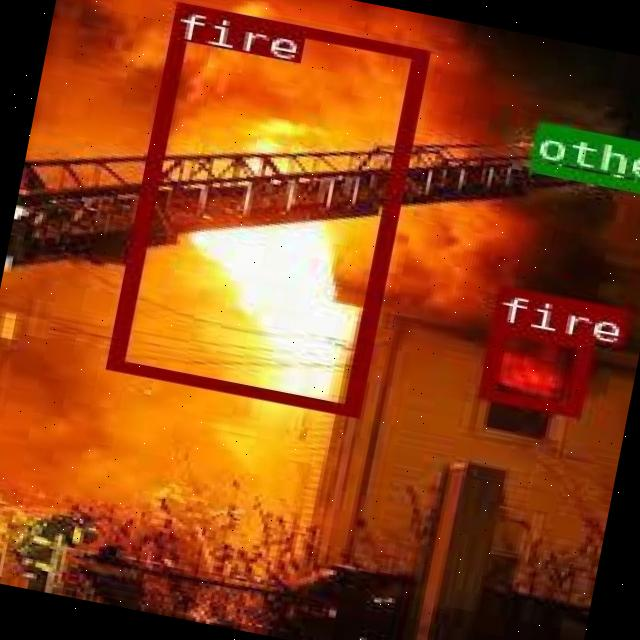fire: (106, 1, 427, 416), (476, 320, 592, 414)
